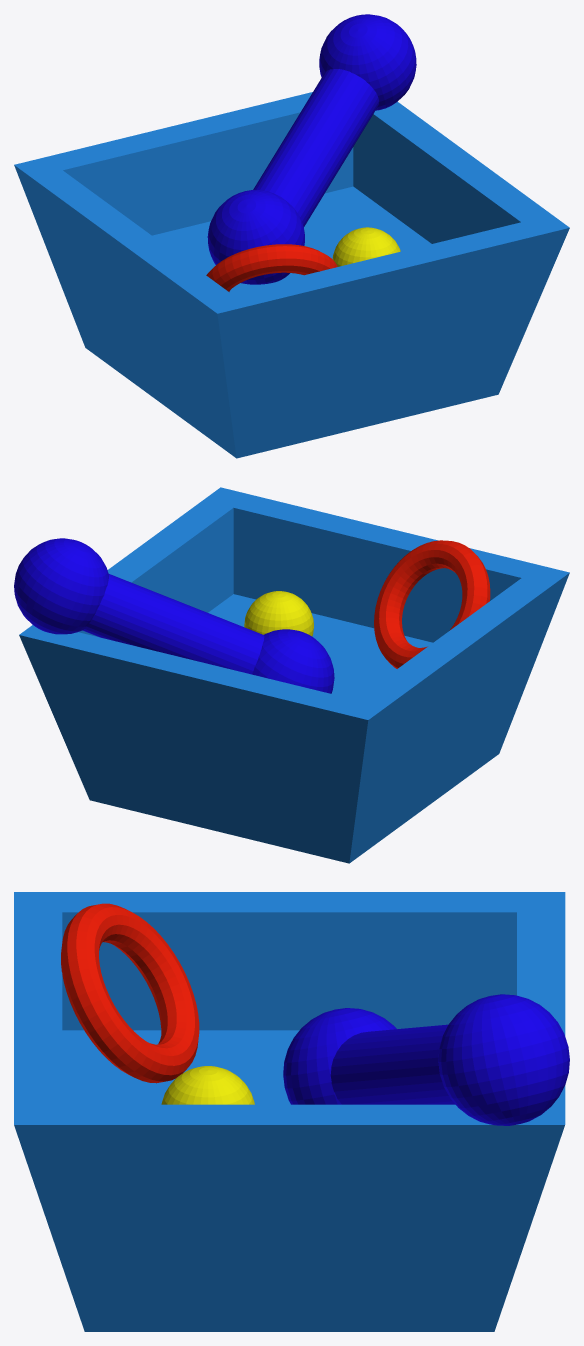
The model's file is dogtoybin.glb.
3 renders of one model, top to bottom at view 1: azimuth 30°, elevation 25°; view 2: azimuth 150°, elevation 25°; view 3: azimuth 270°, elevation 25°, orthographic. The views are drawn at different scales.
Visible parts, largest first — view 1: Dog Toys; view 2: Dog Toys; view 3: Dog Toys.
Part boxes in pixels (x1=…): Dog Toys: x1=14, y1=14, x2=569, y2=458; Dog Toys: x1=14, y1=487, x2=569, y2=863; Dog Toys: x1=14, y1=892, x2=569, y2=1331.
Size of the model in its own units: 0.9143 by 0.6 by 0.8702.
